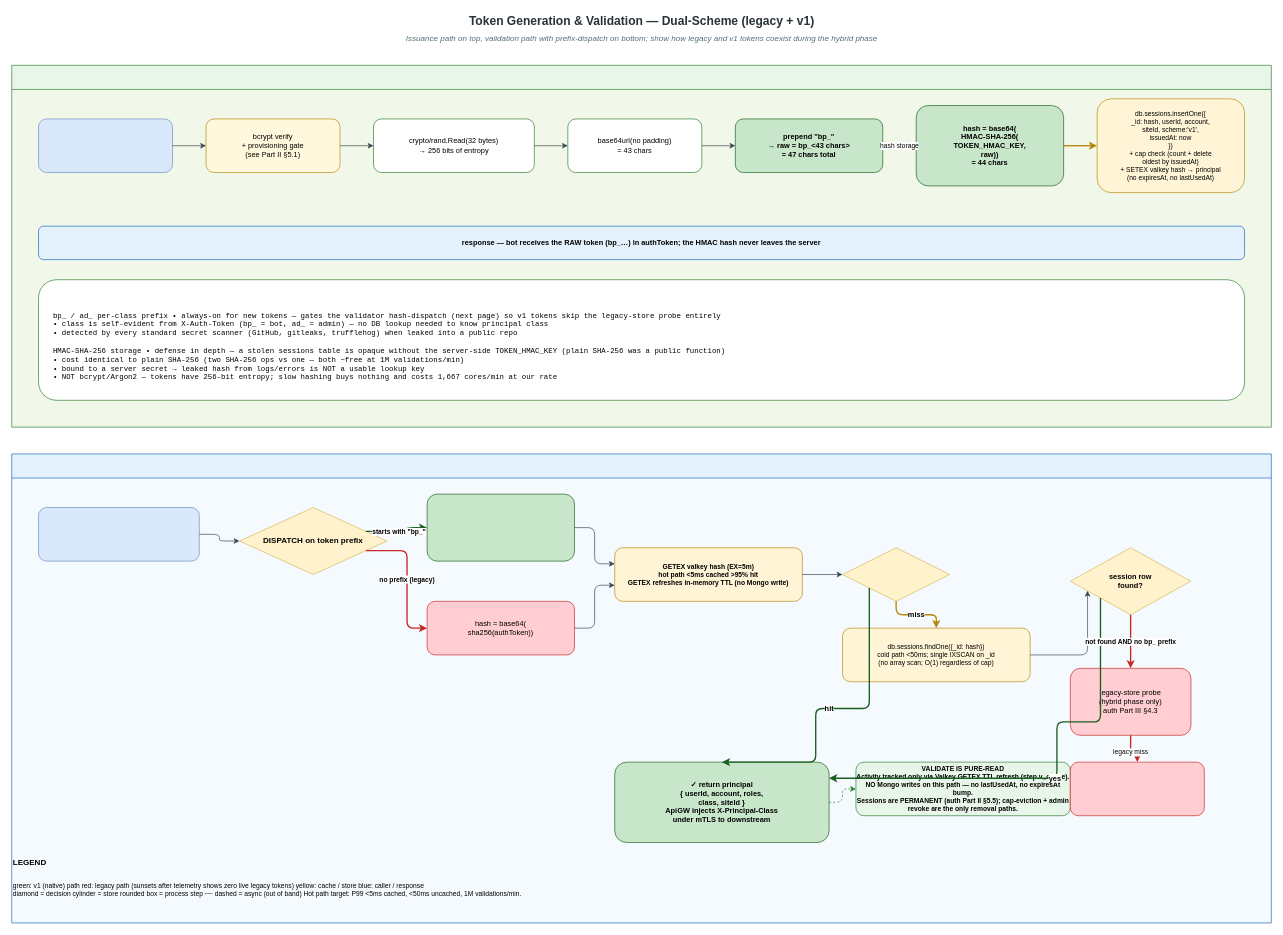
Some shapes in this 1283 by 935 pixel diagram are drawn without their labels. The shapes that lost their labels are listed below. From the top down, each one's box as (x1, y1, x2, y2) in pixels, then its label:
(38, 118, 173, 173): POST /api/v1/login or /v1/bot/login { user, password }
(11, 65, 1271, 427): GENERATION (login path)
(38, 279, 1245, 400): Why this shape — design rationale (cross-ref Part II §4.3)
(38, 507, 199, 561): ApiGW / WS / EventConsumer POST /v1/auth/validate { userId, authToken }
(426, 493, 575, 561): hash = base64( HMAC-SHA-256( TOKEN_HMAC_KEY, authToken))
(842, 547, 950, 601): cache hit?
(11, 453, 1271, 923): VALIDATION (every API call — POST /v1/auth/validate)
(1070, 761, 1204, 816): ✗ 401 invalidCredentials (no sessionExpired — sessions are permanent)
